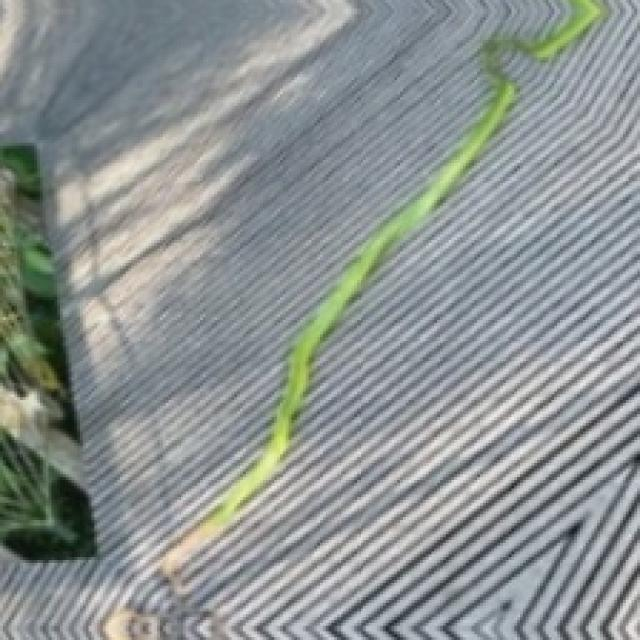red-tailed green ratsnake: (157, 0, 606, 580)
